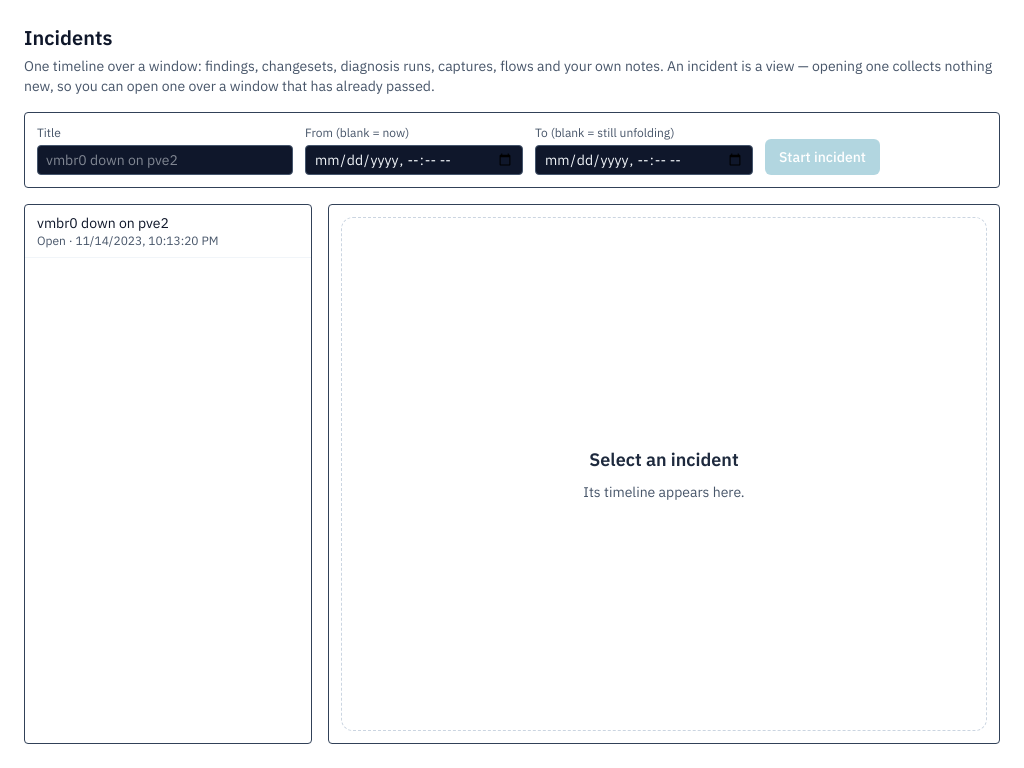
Test: IncidentsPage › shows a diff refusal as a refusal, never as 'nothing changed'
Click the button "vmbr0 down on pve2 Open · 11/14/2023, 10:13:20 PM" at point(168, 232), box [25,205,311,258]
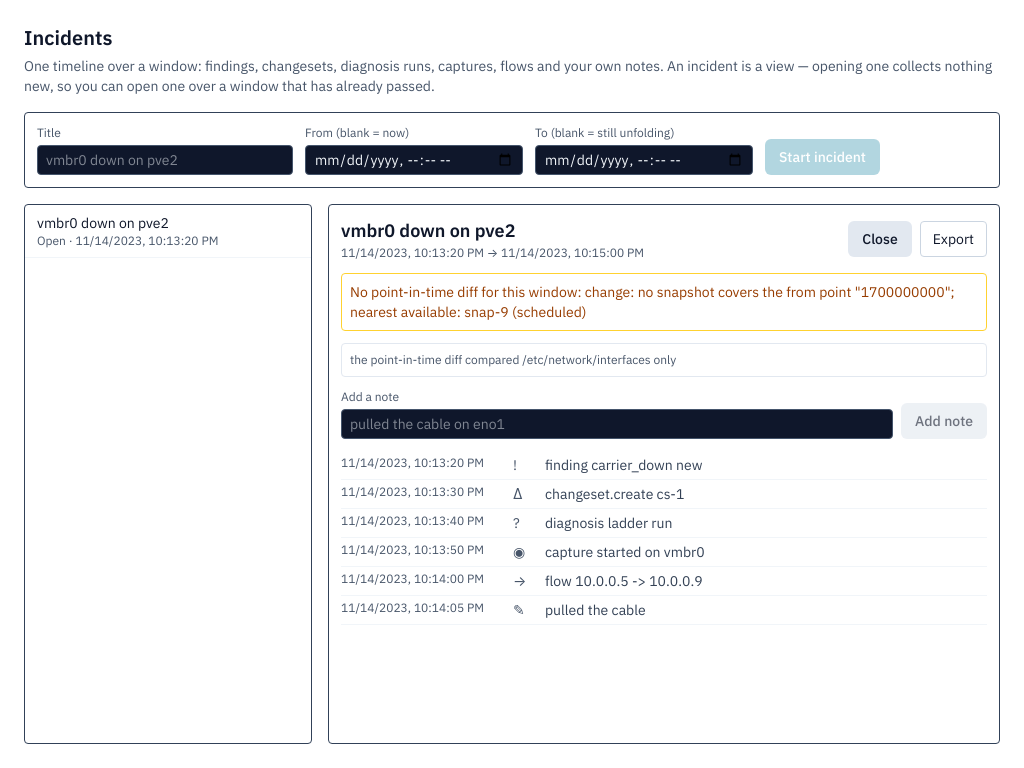
Now the text with test id "incident-diff" shows "No point-in-time diff for this window", box [350,283,955,321]
Now the text with test id "incident-diff" shows "snap-9", box [350,283,955,321]
